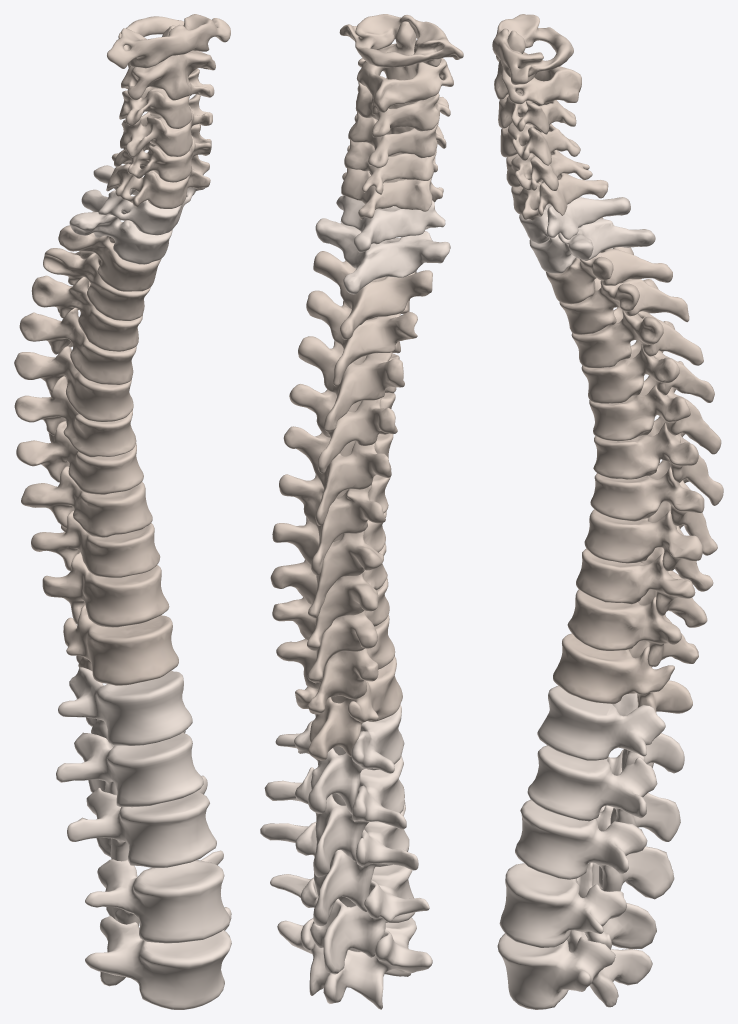
The model's file is vertebrae.glb.
3 renders of one model, left to right at view 1: azimuth 30°, elevation 25°; view 2: azimuth 150°, elevation 25°; view 3: azimuth 270°, elevation 25°, orthographic. The views are drawn at different scales.
Visible parts, largest first — view 1: VH_M_cervical_vertebra_1; view 2: VH_M_cervical_vertebra_1; view 3: VH_M_cervical_vertebra_1.
Boxes of the visible parts, bbox=[...] form: VH_M_cervical_vertebra_1: bbox=[14, 14, 231, 1009]; VH_M_cervical_vertebra_1: bbox=[260, 14, 463, 1009]; VH_M_cervical_vertebra_1: bbox=[492, 14, 723, 1009].
Size of the model in its own units: 0.1096 by 0.6148 by 0.1344.
